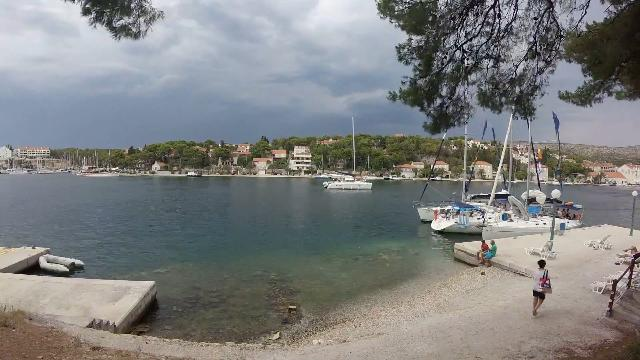Sailboat: (319, 169, 376, 193)
